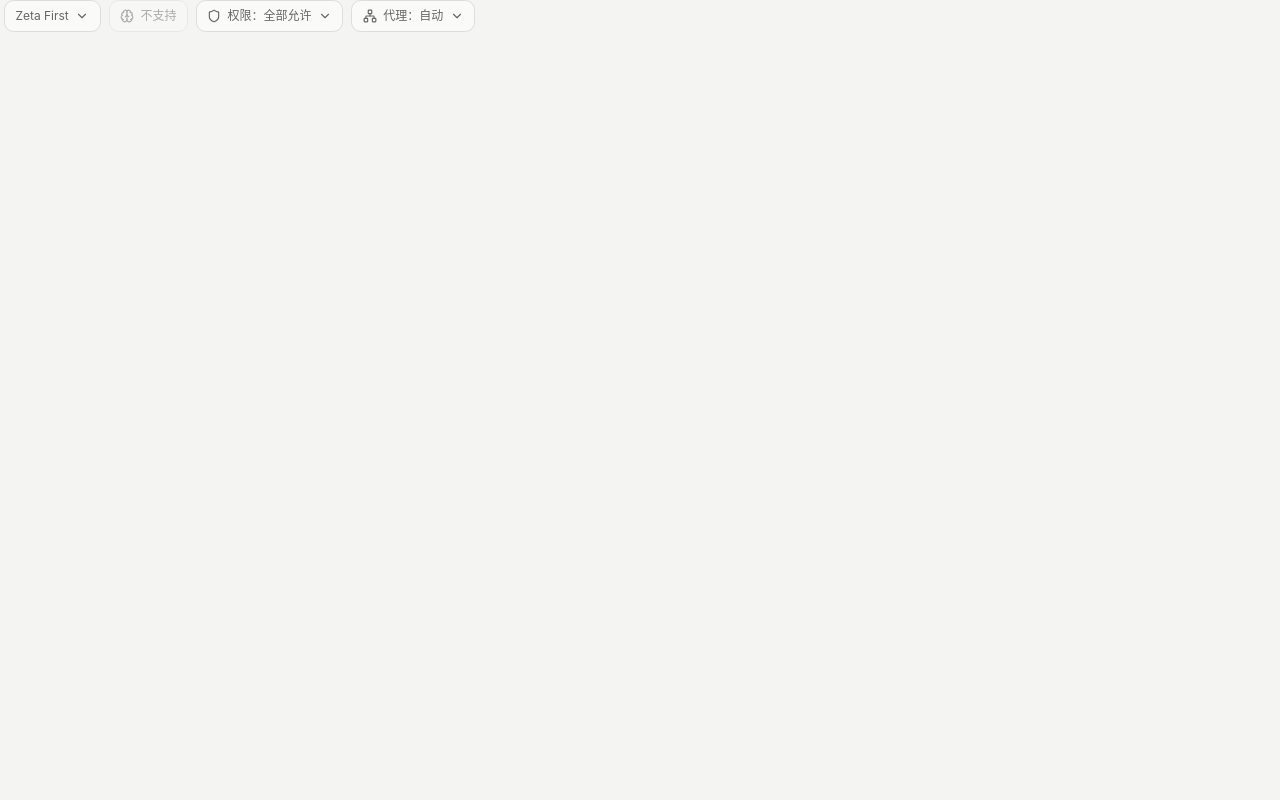
Test: ModelControls › 模型按 Provider 和 OMP 顺序分组，并搜索所有标识字段
Click the button with aria-label "选择模型".
click(52, 16)  # box x1=4 y1=0 x2=101 y2=32
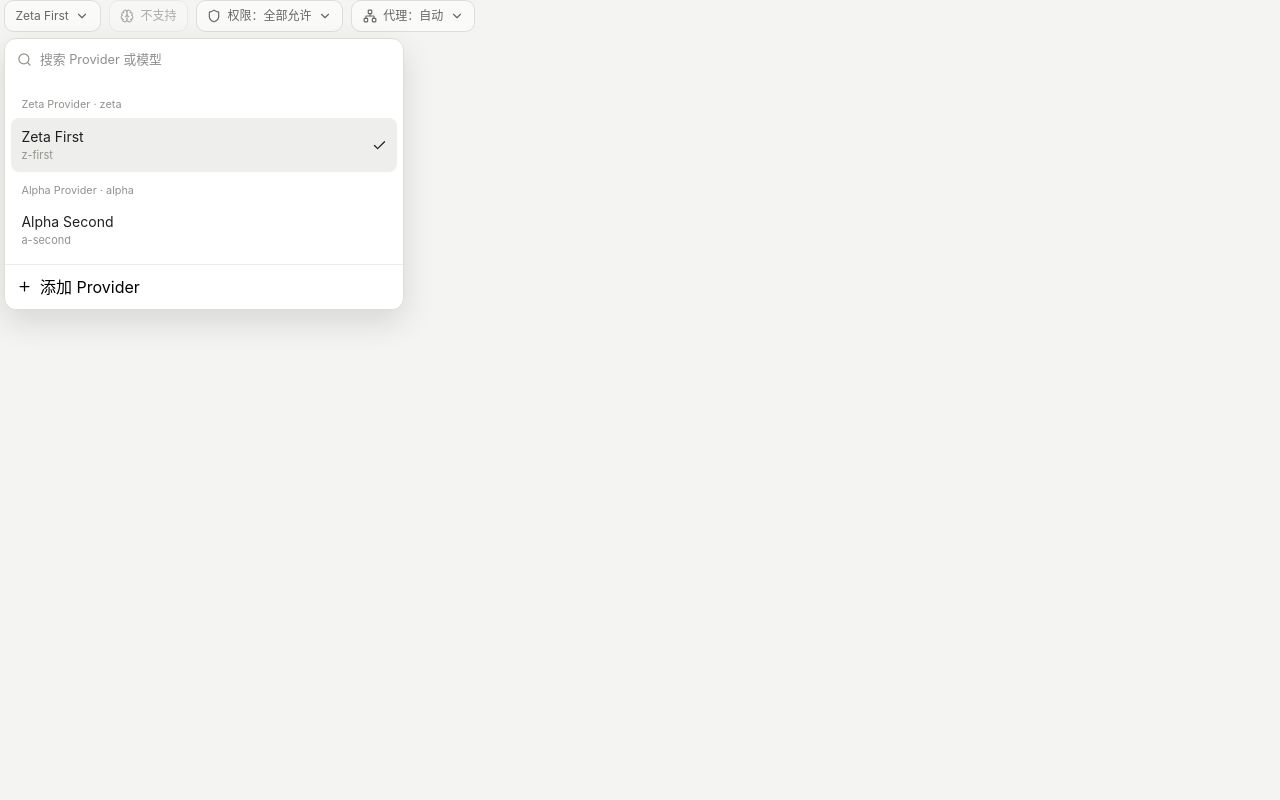
Expected: the text "z-first" is shown, x1=21 y1=148 x2=53 y2=162
Expected: the text "Zeta Provider · zeta" is shown, x1=21 y1=97 x2=122 y2=111
Type "a-second" into the dropdown named "模型选择器".
click(216, 60); type("a-second")  # box x1=40 y1=39 x2=391 y2=81
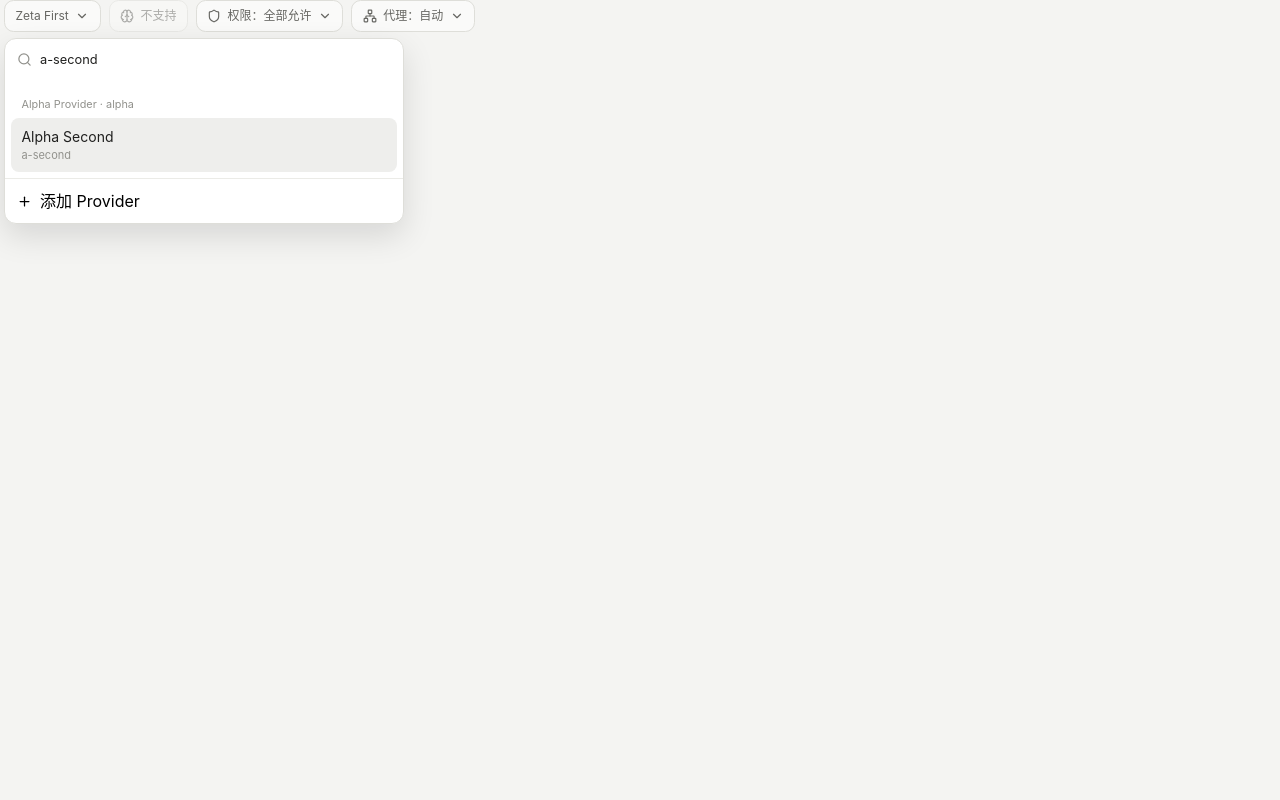
Expected: the option "Alpha Second a-second" is shown, x1=11 y1=118 x2=397 y2=172
Expected: the option "Zeta First z-first" is gone
